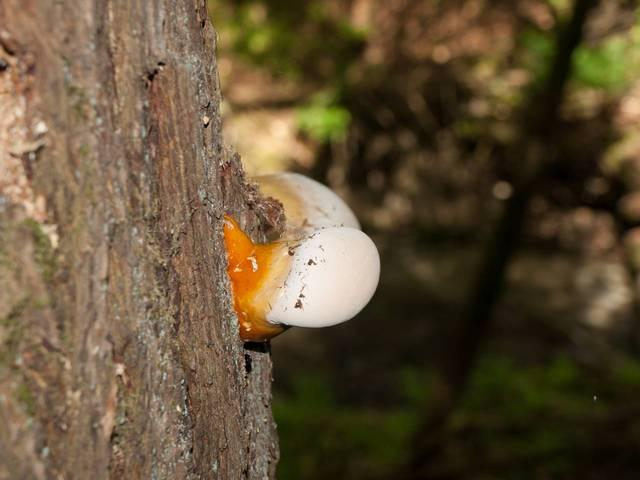Non-edible Mushroom: (220, 170, 381, 345)
